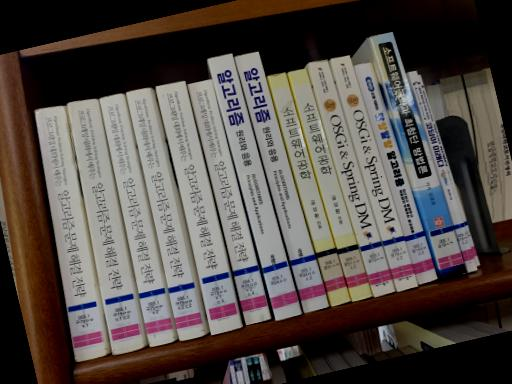book-spine: (207, 53, 301, 320), (234, 50, 329, 312), (369, 31, 467, 279), (156, 80, 242, 335), (307, 59, 395, 297), (330, 55, 417, 292), (188, 79, 271, 324), (66, 98, 145, 355), (126, 86, 204, 340), (33, 105, 109, 362), (98, 92, 174, 348), (267, 72, 350, 306), (288, 68, 371, 302), (354, 62, 438, 285), (407, 71, 477, 272), (418, 74, 480, 266)
